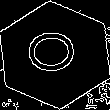O_E: (25, 31, 85, 79)
